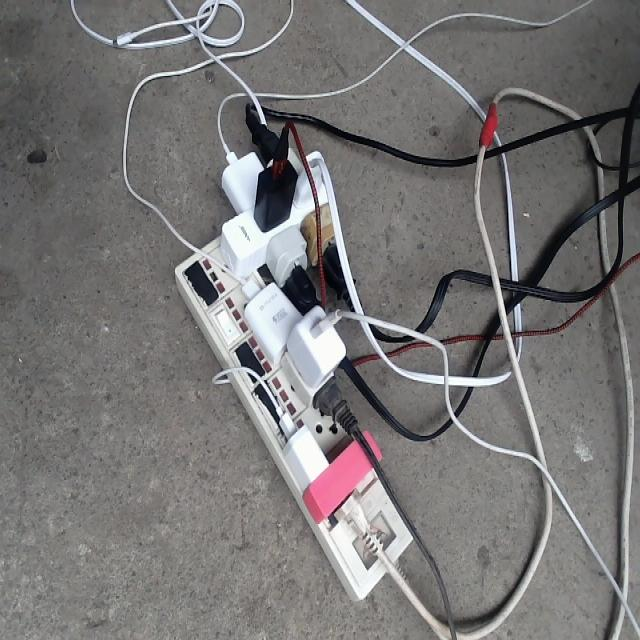-: (172, 120, 415, 601)
